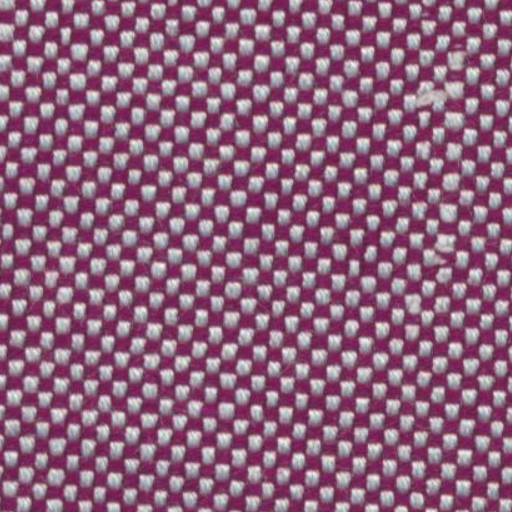TuoSha: (425, 14, 480, 362)
